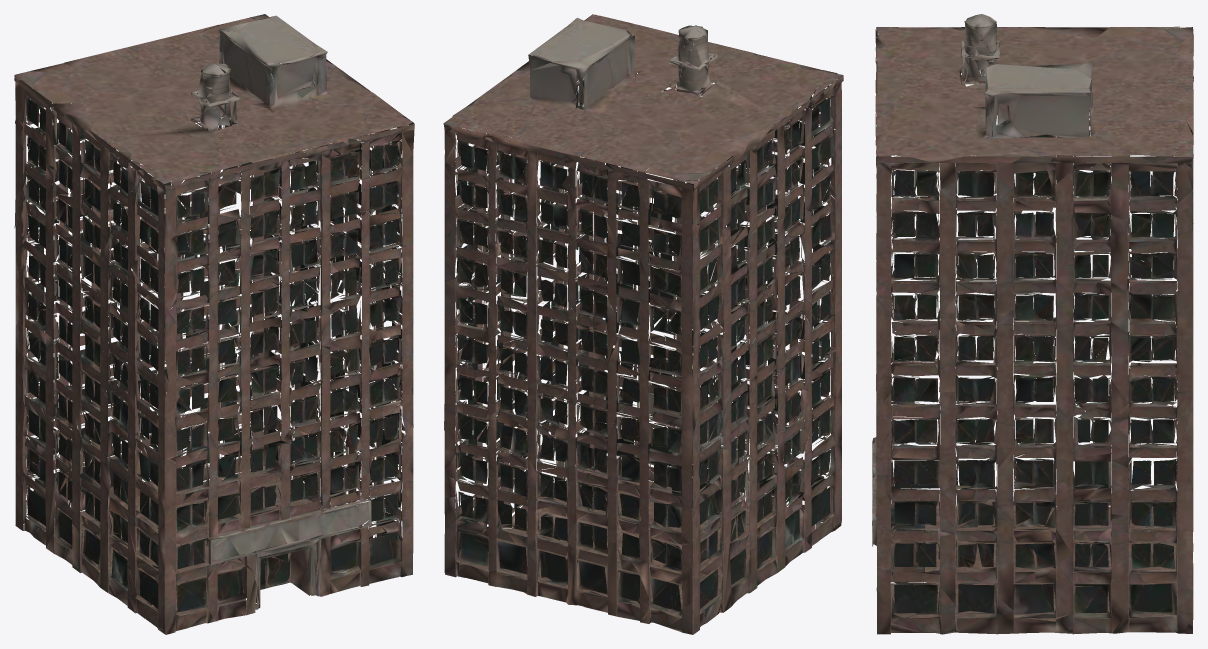
File: tower-02-brick-highrise.far.glb
3 renders of one model, left to right at view 1: azimuth 30°, elevation 25°; view 2: azimuth 150°, elevation 25°; view 3: azimuth 270°, elevation 25°, orthographic. The views are drawn at different scales.
Visible parts, largest first — view 1: Mesh_0; view 2: Mesh_0; view 3: Mesh_0.
Part boxes in pixels (x1,y1,x2,y2): Mesh_0: (14,14,414,634); Mesh_0: (443,14,843,634); Mesh_0: (872,14,1193,634).
Bounding box in the file's own units: 0.974 × 1.9 × 1.02.
Materials: 1 (1 with a texture image).
